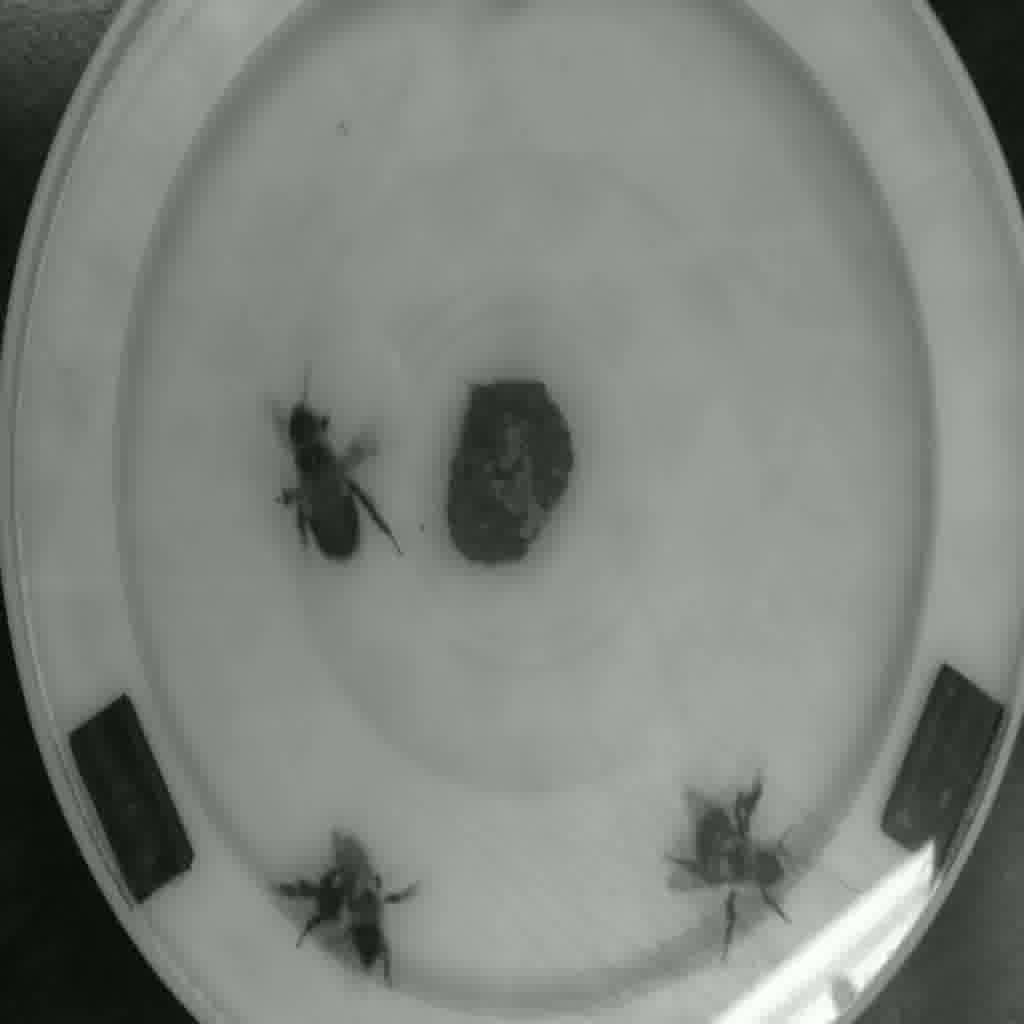bee: (236, 372, 411, 559), (275, 815, 447, 996), (673, 775, 823, 925)
